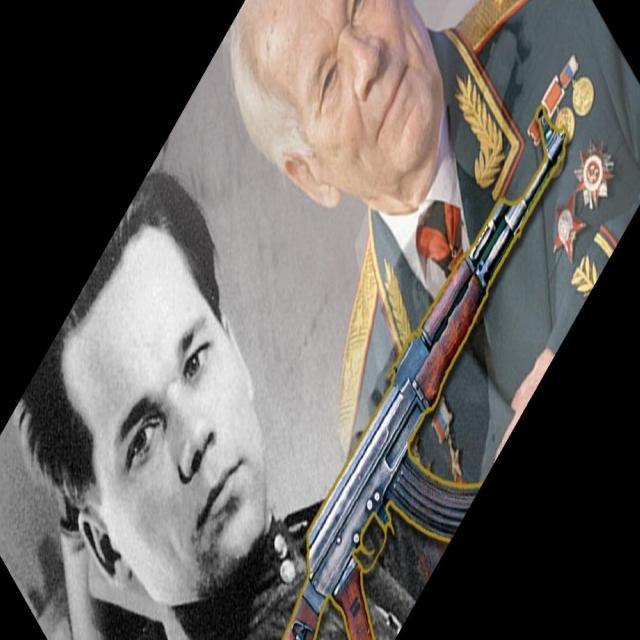weapon: (281, 108, 567, 640)
